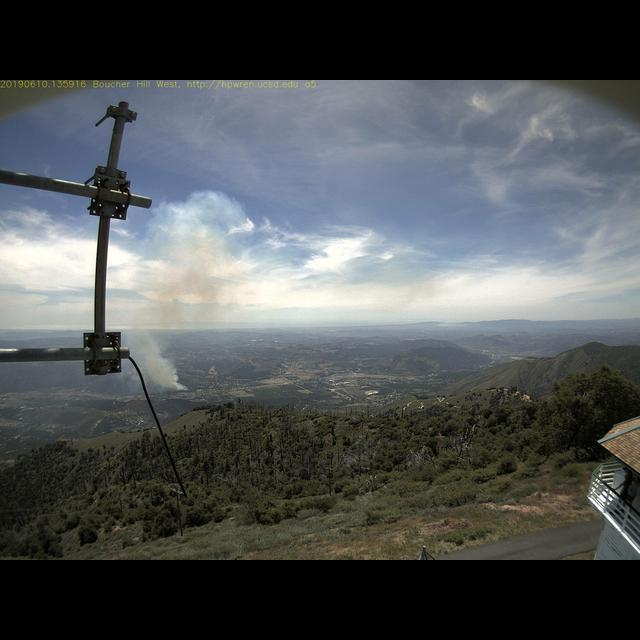Smoke: (131, 190, 251, 392)
